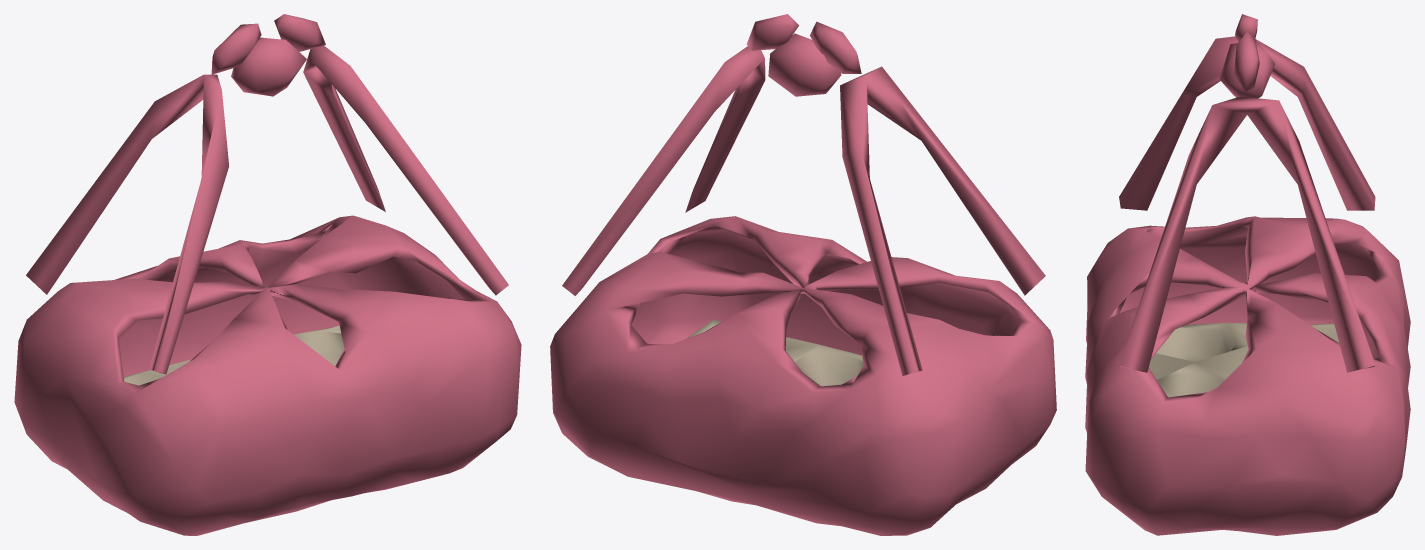
The model's file is tui_trung.glb.
3 views of the same model, side by side, from view 1: azimuth 30°, elevation 25°; view 2: azimuth 150°, elevation 25°; view 3: azimuth 270°, elevation 25° (orthographic). The views are drawn at different scales.
Parts seen in each view (by area): view 1: tui_trung; view 2: tui_trung; view 3: tui_trung.
Part boxes in pixels (<box>): tui_trung: <box>14,14,521,535</box>; tui_trung: <box>550,14,1056,535</box>; tui_trung: <box>1085,14,1410,535</box>.
Size of the model in its own units: 0.202 by 0.2167 by 0.1431.
